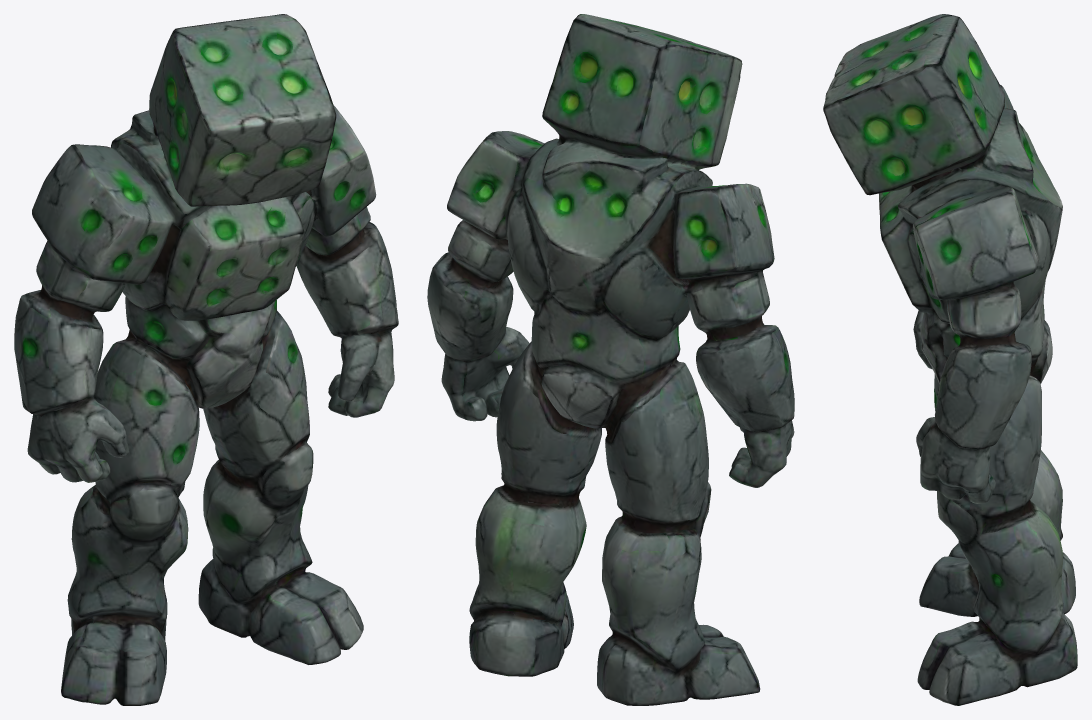
The model's file is lar_dice_golem.glb.
3 views of the same model, side by side, from view 1: azimuth 30°, elevation 25°; view 2: azimuth 150°, elevation 25°; view 3: azimuth 270°, elevation 25° (orthographic). The views are drawn at different scales.
Size of the model in its own units: 0.5192 by 0.8784 by 0.333.
Materials: 1 (1 with a texture image).
